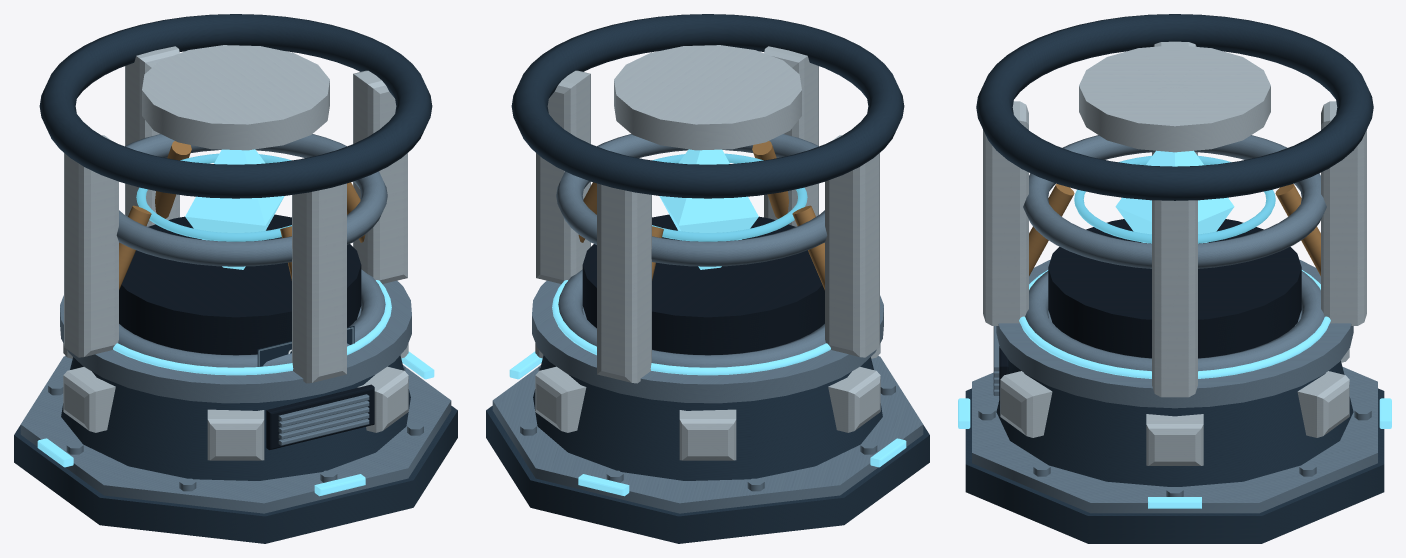
File: extractor.glb
The picture shows the model from 3 angles, left to right: view 1: azimuth 30°, elevation 25°; view 2: azimuth 150°, elevation 25°; view 3: azimuth 270°, elevation 25°; orthographic projection.
Visible parts, largest first — view 1: Graphite composite (×2), Ceramic titanium armor, Brushed titanium (×2), Carbon machinery, Status light (×2), Model component, Copper heat exchanger, Coolant conduit, Identification ORE 02; view 2: Graphite composite (×2), Ceramic titanium armor, Brushed titanium (×2), Carbon machinery, Status light (×2), Model component, Copper heat exchanger, Coolant conduit; view 3: Graphite composite (×2), Ceramic titanium armor, Brushed titanium (×2), Carbon machinery, Status light (×2), Model component, Coolant conduit, Copper heat exchanger.
Boxes of the visible parts, x1,y1,x2,y2 form: Graphite composite (×2): (14, 14, 457, 543); Ceramic titanium armor: (63, 45, 408, 460); Brushed titanium (×2): (20, 134, 451, 513); Carbon machinery: (119, 214, 374, 449); Status light (×2): (37, 280, 434, 496); Model component: (185, 149, 284, 269); Copper heat exchanger: (119, 141, 365, 289); Coolant conduit: (136, 153, 291, 241); Identification ORE 02: (257, 326, 354, 366); Graphite composite (×2): (486, 14, 929, 543); Ceramic titanium armor: (535, 45, 880, 460); Brushed titanium (×2): (492, 134, 923, 513); Carbon machinery: (582, 214, 824, 355); Status light (×2): (509, 280, 906, 496); Model component: (659, 149, 758, 269); Copper heat exchanger: (578, 141, 824, 289); Coolant conduit: (652, 153, 807, 241); Graphite composite (×2): (965, 14, 1384, 543); Ceramic titanium armor: (983, 41, 1366, 465); Brushed titanium (×2): (972, 135, 1377, 513); Carbon machinery: (999, 219, 1301, 403); Status light (×2): (958, 270, 1391, 508); Model component: (1115, 150, 1234, 243); Coolant conduit: (1074, 155, 1275, 243); Copper heat exchanger: (1029, 184, 1320, 275).
Size of the model in its own units: 2.26 by 2.12 by 2.26.
8 materials, 6 textured.
